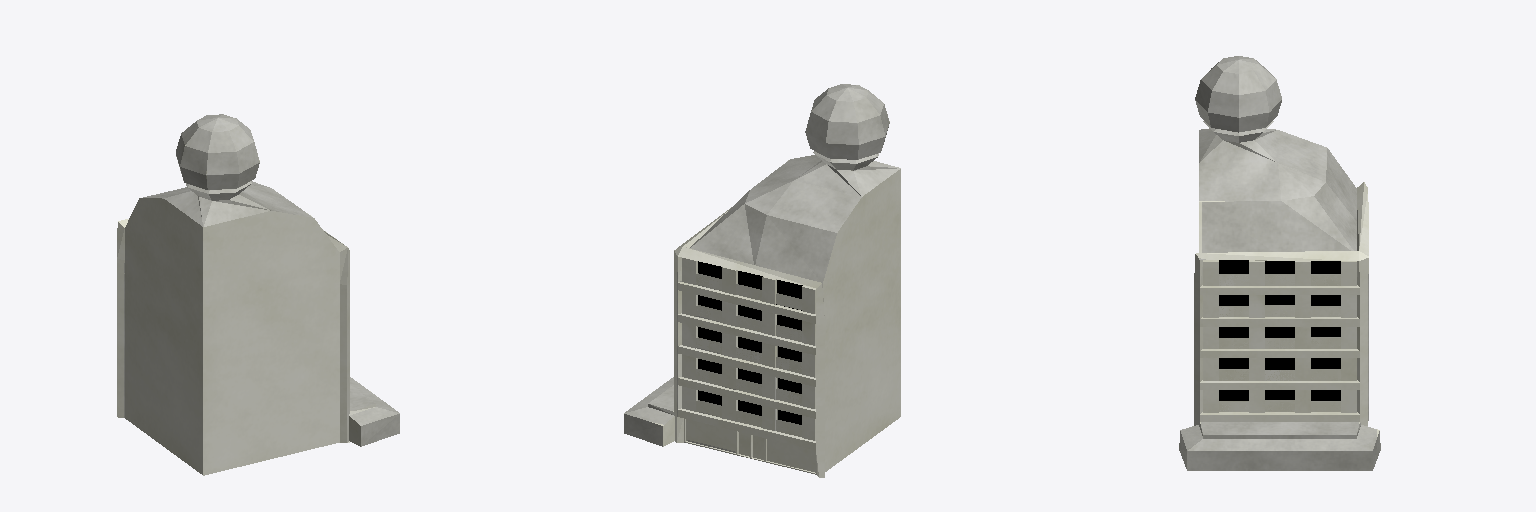
The picture shows the model from 3 angles: view 1: azimuth 30°, elevation 25°; view 2: azimuth 150°, elevation 25°; view 3: azimuth 270°, elevation 25°; orthographic projection.
Visible parts, largest first — view 1: Cube1; view 2: Cube1; view 3: Cube1.
Part boxes in pixels (left/top/right/bottom): Cube1: left=117, top=114, right=399, bottom=475; Cube1: left=624, top=84, right=900, bottom=477; Cube1: left=1179, top=56, right=1380, bottom=470.
Size of the model in its own units: 28.03 by 45.86 by 25.01.
Materials: 1 (1 with a texture image).